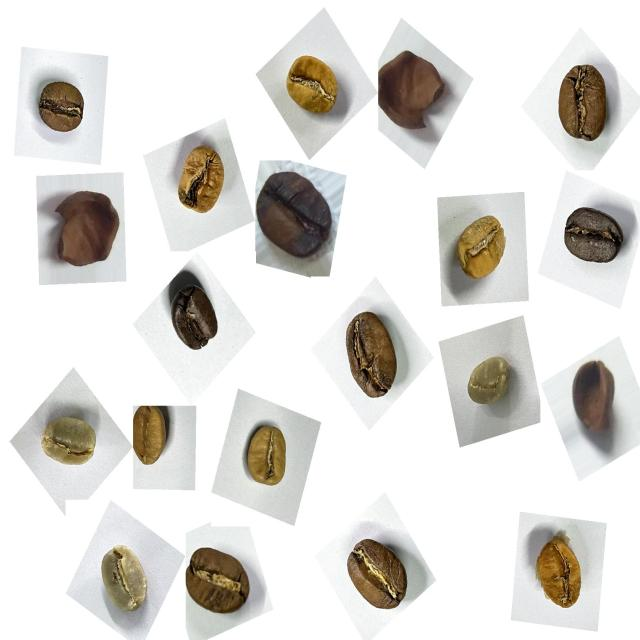bad: (250, 160, 341, 269), (369, 39, 455, 142), (41, 177, 125, 282), (560, 348, 625, 449)
dark: (162, 269, 230, 365), (555, 199, 632, 281)
green: (90, 531, 160, 624), (30, 402, 106, 482), (457, 344, 520, 423)
light: (520, 522, 597, 623), (446, 197, 520, 294), (163, 136, 237, 230), (229, 407, 303, 499), (278, 40, 351, 126), (30, 71, 97, 147), (120, 396, 181, 478)
medium: (334, 522, 418, 621), (330, 305, 408, 409), (546, 53, 624, 154), (178, 536, 261, 626)
